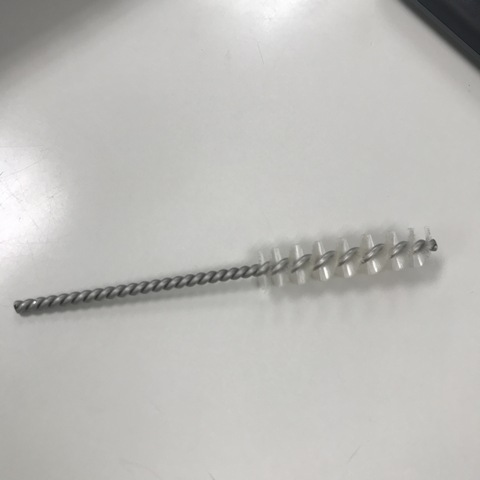Twist Brush-B: (12, 224, 443, 321)
